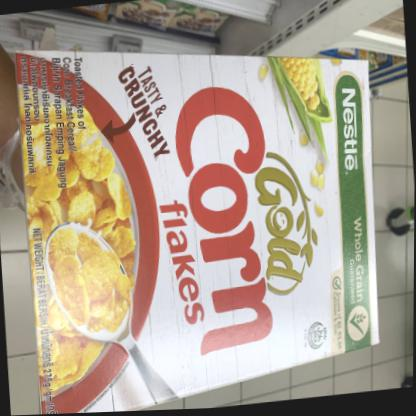cereal box: (10, 14, 396, 415)
